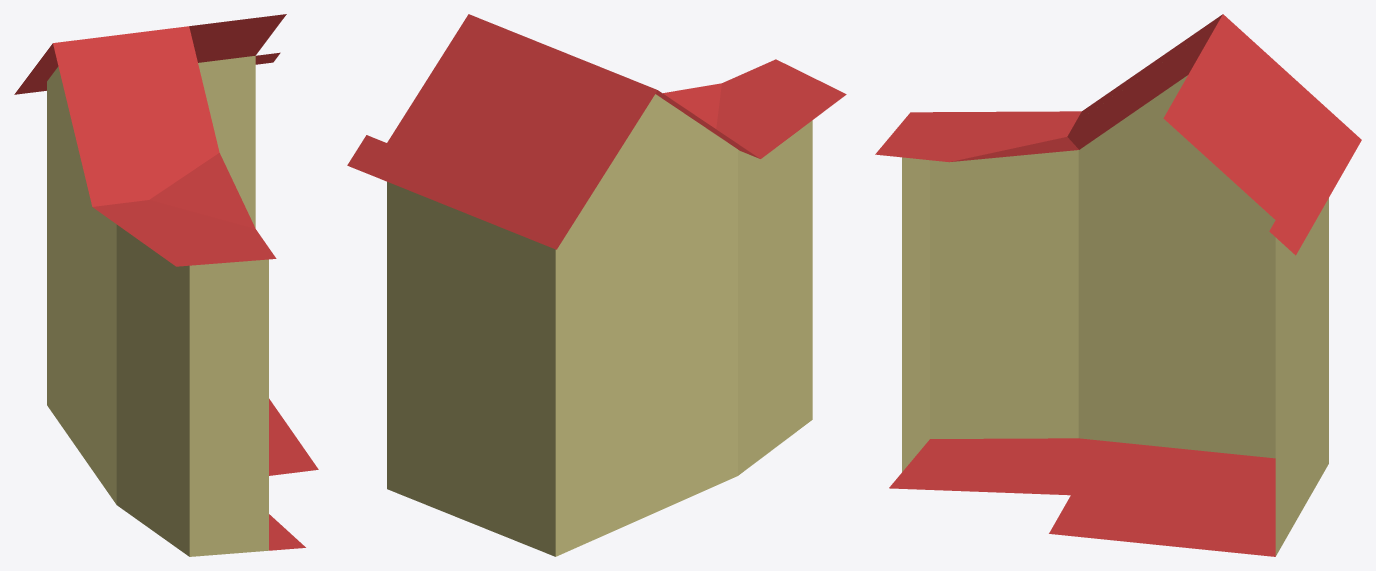
3 renders of one model, left to right at view 1: azimuth 30°, elevation 25°; view 2: azimuth 150°, elevation 25°; view 3: azimuth 270°, elevation 25°, orthographic. The views are drawn at different scales.
Bounding box in the file's own units: 9.33 × 13.31 × 12.88.
